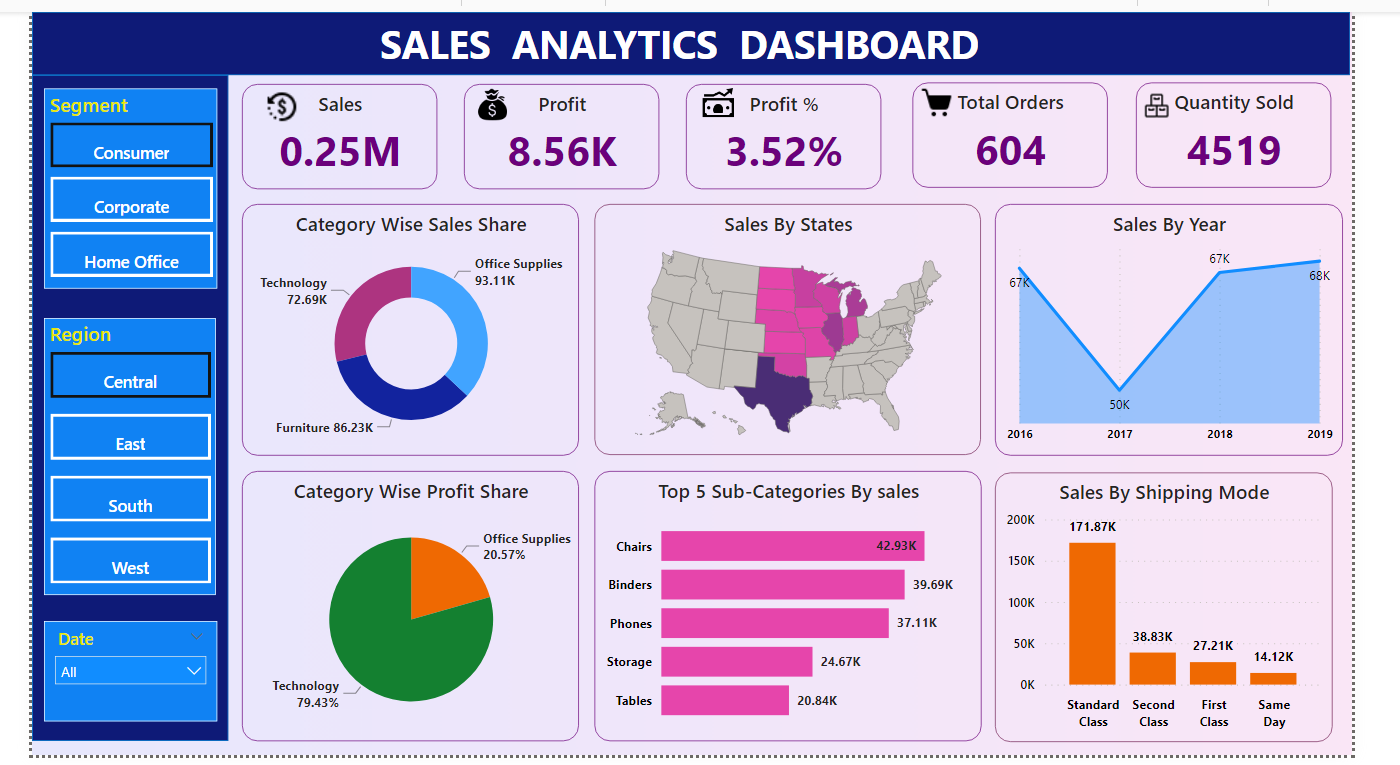

This screenshot's page, from the dashboard's own definition file:
{"tool":"powerbi","page":{"name":"Page 1","canvas":[1280,720],"ordinal":0},"visuals":[{"type":"card","title":"Sales","fields":{"Values":["Sum(Orders.Sales)"]},"box":[203.9,69.6,189.3,101.9],"z":0},{"type":"card","title":"Profit %","fields":{"Values":["Orders.Profit%"]},"box":[634.2,69.8,189.1,101.8],"z":1000},{"type":"card","title":"Total Orders","fields":{"Values":["Orders.Total orders"]},"box":[853.8,68.4,189.1,101.8],"z":2000},{"type":"card","title":"Quantity Sold","fields":{"Values":["Sum(Orders.Quantity)"]},"box":[1071.1,68,189.3,101.9],"z":3000},{"type":"card","title":"Profit","fields":{"Values":["Sum(Orders.Profit)"]},"box":[418.9,69.8,189.1,101.8],"z":4000},{"type":"image","box":[203.9,69.6,77.7,43.7],"z":5000},{"type":"image","box":[415.8,68,61.5,43.7],"z":6000},{"type":"image","box":[632.6,66.3,64.7,45.3],"z":7000},{"type":"image","box":[843.6,66.9,68.4,42.2],"z":8000},{"type":"image","box":[1063,72.8,55,35.6],"z":9000},{"type":"donutChart","title":"Category Wise Sales Share","fields":{"Category":["Orders.Category"],"Y":["Sum(Orders.Sales)"]},"box":[203.9,186.1,326.8,244.3],"z":10000},{"type":"pieChart","title":"Category Wise Profit Share","fields":{"Series":["Orders.Category"],"Y":["Sum(Orders.Profit)"]},"box":[203.9,444.9,326.8,262.1],"z":11000},{"type":"areaChart","title":"Sales  By Year","fields":{"Category":["Orders.Year"],"Y":["Sum(Orders.Sales)"]},"box":[934,185.9,337.1,244.1],"z":12000},{"type":"clusteredBarChart","title":"Top 5 Sub-Categories By sales","fields":{"Category":["Orders.Sub-Category"],"Y":["Sum(Orders.Sales)"]},"box":[545.3,444.9,375.4,262.1],"z":13000},{"type":"shapeMap","title":"Sales By States","fields":{"Category":["Orders.State"],"Value":["Sum(Orders.Sales)"]},"box":[544.8,186.3,374.7,243],"z":14000},{"type":"clusteredColumnChart","title":"Sales By Shipping Mode","fields":{"Category":["Orders.Ship Mode"],"Y":["Sum(Orders.Sales)"]},"box":[934,446,327,261],"z":15000},{"type":"shape","box":[0,0,1278.2,61.5],"z":16000},{"type":"textbox","box":[158.6,0,938.4,69.6],"z":17000},{"type":"shape","box":[0,61.1,190.5,645.8],"z":18000},{"type":"advancedSlicerVisual","fields":{"Values":["Orders.Segment"]},"box":[11.3,74.4,168.3,194.2],"z":19000},{"type":"advancedSlicerVisual","fields":{"Values":["Orders.Region"]},"box":[11.3,296.1,166.7,268.6],"z":20000},{"type":"slicer","fields":{"Values":["Orders.Order Date.Variation.Date Hierarchy.Year","Orders.Order Date.Variation.Date Hierarchy.Quarter","Orders.Order Date.Variation.Date Hierarchy.Month","Orders.Order Date.Variation.Date Hierarchy.Day"]},"box":[11.3,590.6,168.3,97.1],"z":21000}]}

Visuals, with their boxes in screenshot pixels (x1, y1, x2, y2), scaled from the page's 1280x720 canvas onto the 1400x765 screenshot:
"Sales" card: l=223, t=74, r=430, b=182
"Profit %" card: l=694, t=74, r=900, b=182
"Total Orders" card: l=934, t=73, r=1141, b=181
"Quantity Sold" card: l=1172, t=72, r=1379, b=181
"Profit" card: l=458, t=74, r=665, b=182
image: l=223, t=74, r=308, b=120
image: l=455, t=72, r=522, b=119
image: l=692, t=70, r=763, b=119
image: l=923, t=71, r=998, b=116
image: l=1163, t=77, r=1223, b=115
"Category Wise Sales Share" donutChart: l=223, t=198, r=580, b=457
"Category Wise Profit Share" pieChart: l=223, t=473, r=580, b=751
"Sales  By Year" areaChart: l=1022, t=198, r=1390, b=457
"Top 5 Sub-Categories By sales" clusteredBarChart: l=596, t=473, r=1007, b=751
"Sales By States" shapeMap: l=596, t=198, r=1006, b=456
"Sales By Shipping Mode" clusteredColumnChart: l=1022, t=474, r=1379, b=751
shape: l=0, t=0, r=1398, b=65
textbox: l=173, t=0, r=1200, b=74
shape: l=0, t=65, r=208, b=751
advancedSlicerVisual - Orders.Segment: l=12, t=79, r=196, b=285
advancedSlicerVisual - Orders.Region: l=12, t=315, r=195, b=600
slicer - Orders.Order Date.Variation.Date Hierarchy.Year x Orders.Order Date.Variation.Date Hierarchy.Quarter: l=12, t=628, r=196, b=731
